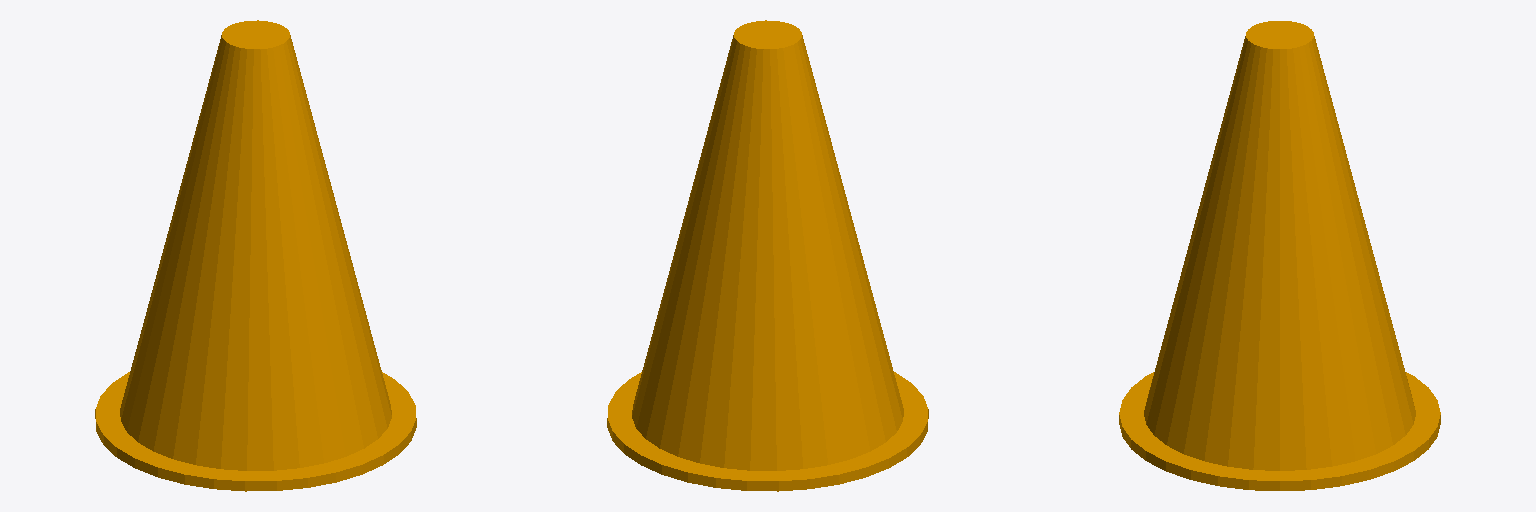
URDF robot description (cone):
<robot name="cone">
  <link name="my_box">
    <inertial>
      <origin xyz="0 0 0" />
      <mass value="1.0" />
      <inertia  ixx="1.0" ixy="0.0"  ixz="0.0"  iyy="100.0"  iyz="0.0"  izz="1.0" />
    </inertial>
    <visual>
      <origin xyz="0 0 -1.01"/>
      <geometry>
        <mesh filename="package://car_gazebo_models/models/platforms/cone/cone.dae"/>
      </geometry>
    </visual>
    <collision>
      <origin xyz="0 0 -0.645"/>
      <geometry>
        <cylinder length="0.7" radius="0.27"/>
      </geometry>
    </collision>
  </link>
  <gazebo reference="my_box">
    <material>Gazebo/Orange</material>
  </gazebo>
</robot>

--- Facts derived from the render (not from the file) ---
3 views of the same robot in one strip: view 1: azimuth 30°, elevation 25°; view 2: azimuth 150°, elevation 25°; view 3: azimuth 270°, elevation 25° (orthographic).
Robot: cone — 1 links, 0 joints (none); root link my_box; default pose: all joints at 0.
Links seen in each view (by area): view 1: my_box; view 2: my_box; view 3: my_box.
Link boxes in pixels (bbox=[...]): my_box: bbox=[95, 20, 416, 491]; my_box: bbox=[607, 20, 928, 491]; my_box: bbox=[1119, 21, 1440, 490].
Size in the robot's own frame: 0.03 by 0.03 by 0.04 metres.
Meshes: 1 distinct files referenced, 1 mesh visuals loaded (1 Collada DAE).